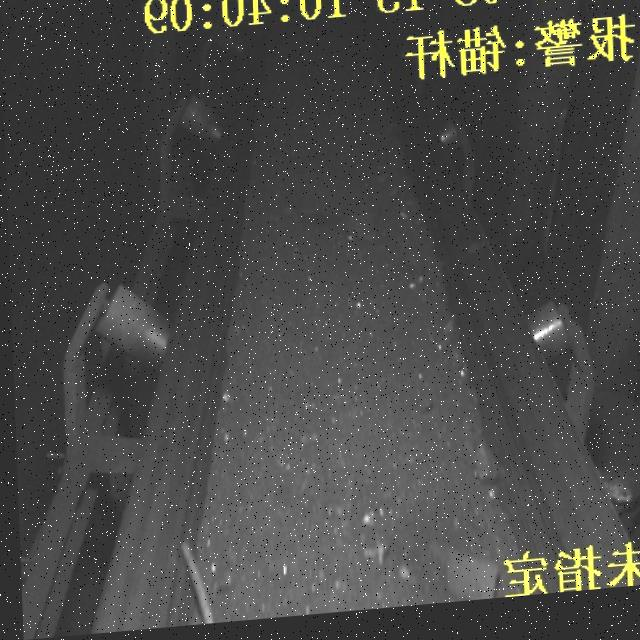bolt: (172, 545, 222, 629)
large_sized_coal: (425, 558, 496, 611), (465, 449, 499, 495)
